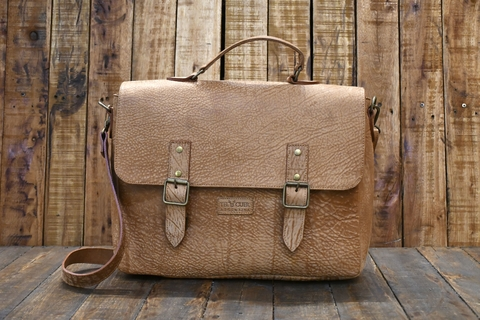cartera: (57, 29, 385, 299)
cuero: (55, 27, 383, 297)
